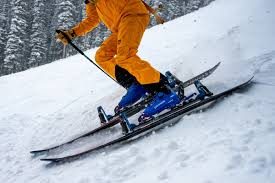skis: (29, 61, 256, 165)
